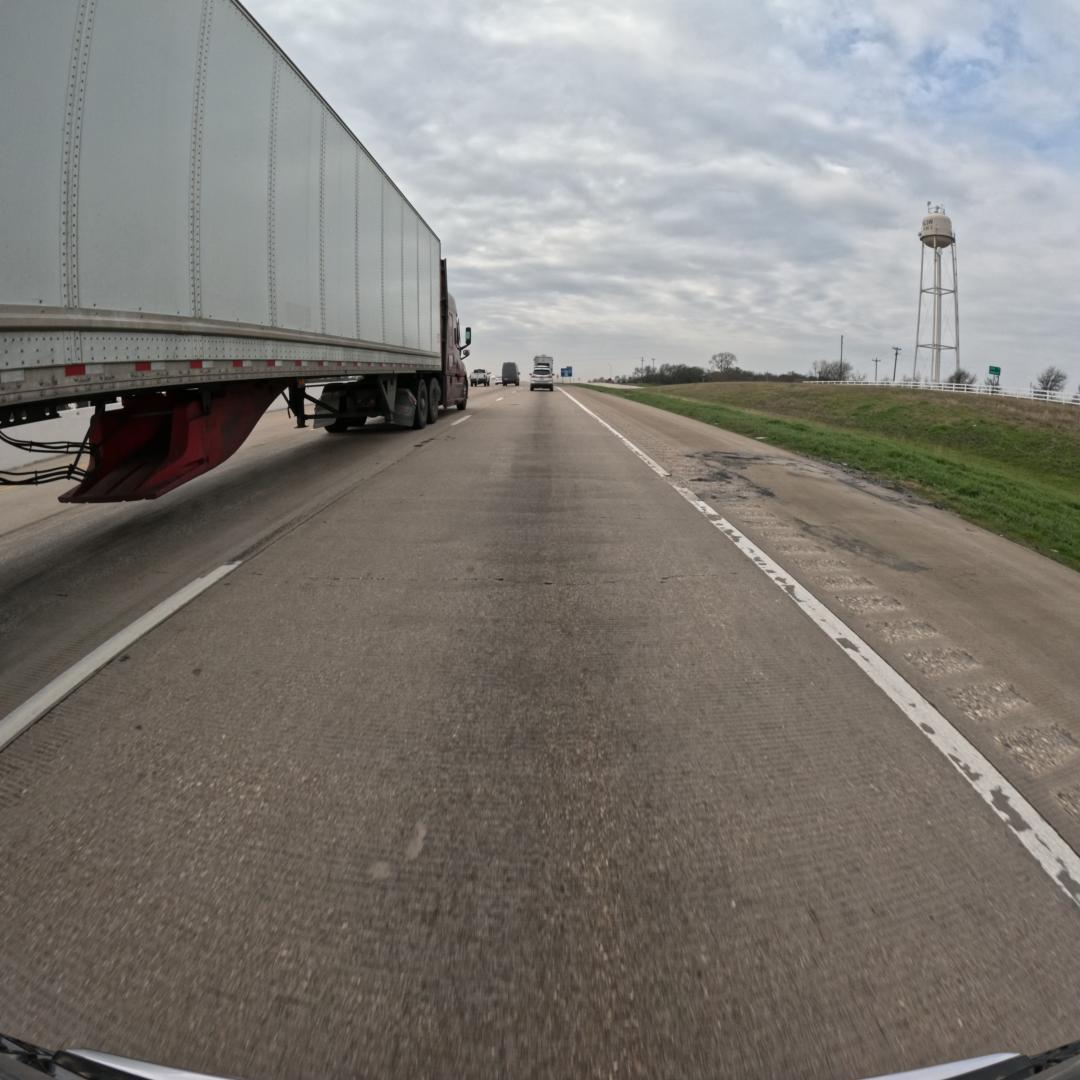lane0: (0, 392, 1080, 1077)
lane1: (0, 390, 503, 750)
